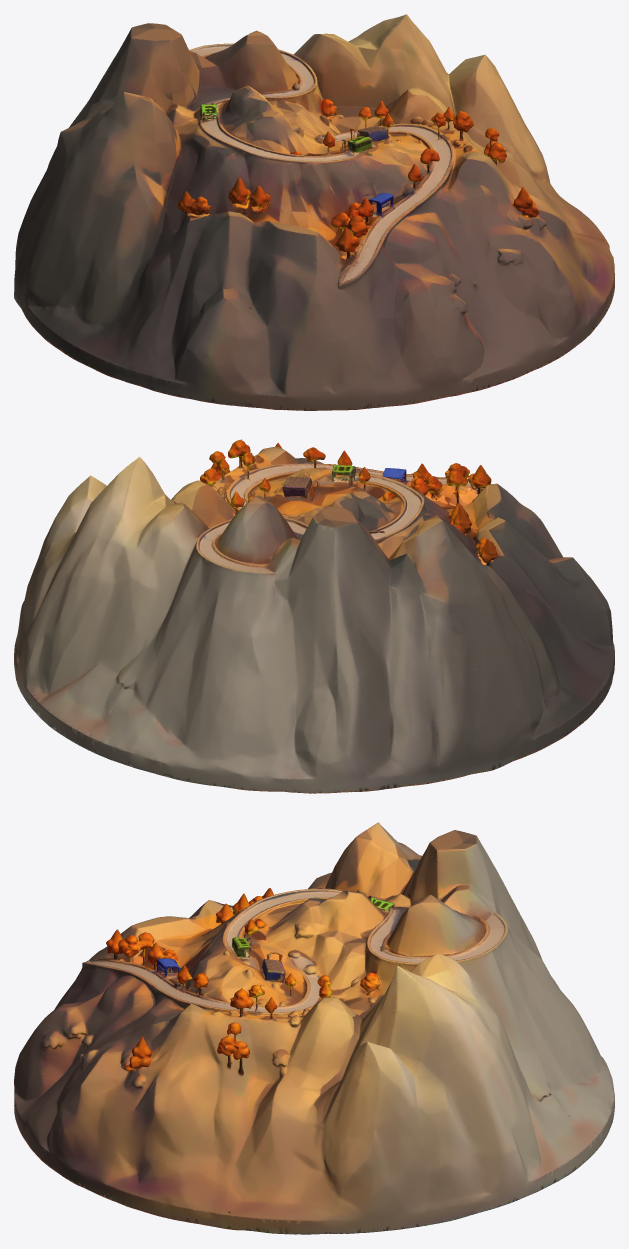
File: Meshy_AI_Winding_Road_Through__0302043242_texture.fbx
3 renders of one model, top to bottom at view 1: azimuth 30°, elevation 25°; view 2: azimuth 150°, elevation 25°; view 3: azimuth 270°, elevation 25°, orthographic.
Visible parts, largest first — view 1: Mesh_0; view 2: Mesh_0; view 3: Mesh_0.
Boxes of the visible parts, x1,y1,x2,y2 form: Mesh_0: [14, 14, 614, 410]; Mesh_0: [14, 439, 614, 793]; Mesh_0: [14, 822, 614, 1234].
Size of the model in its own units: 190 by 77.76 by 190.
1 material, 1 textured.
